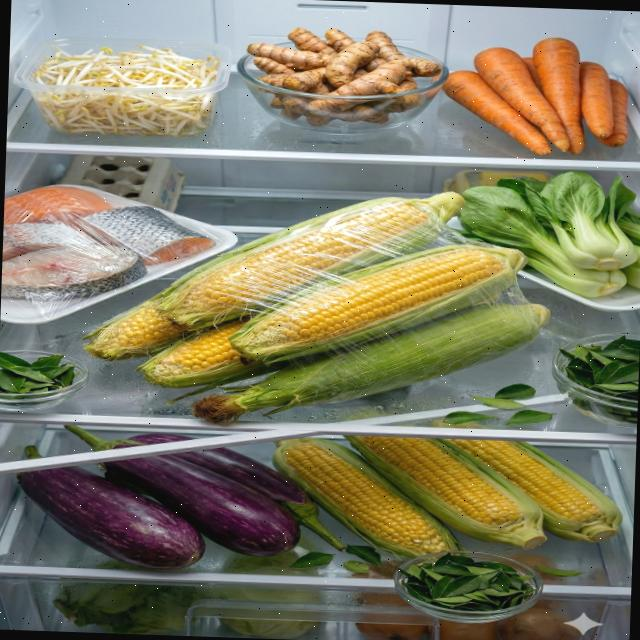bean_sprouts: (29, 39, 222, 140)
carrot: (440, 33, 631, 158)
corn: (76, 178, 556, 435), (268, 432, 626, 569)
curry_leaves: (396, 550, 541, 614), (556, 332, 640, 424), (0, 349, 76, 407)
eggplant: (12, 422, 351, 576)
fish: (0, 183, 218, 306)
pakchoy: (456, 166, 640, 299)
turmeric: (244, 25, 444, 131)
